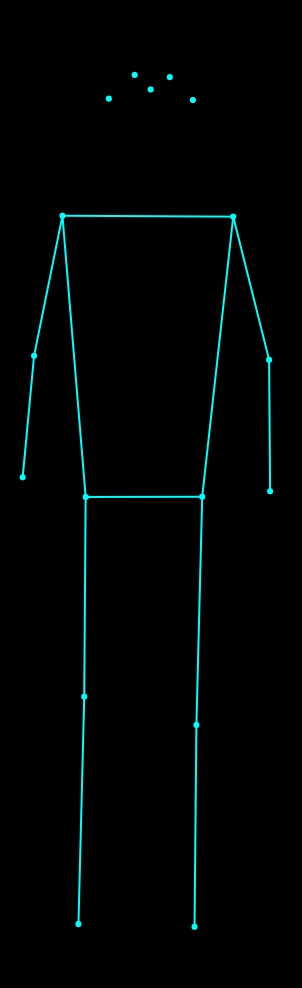mountain: (14, 64, 278, 938)
